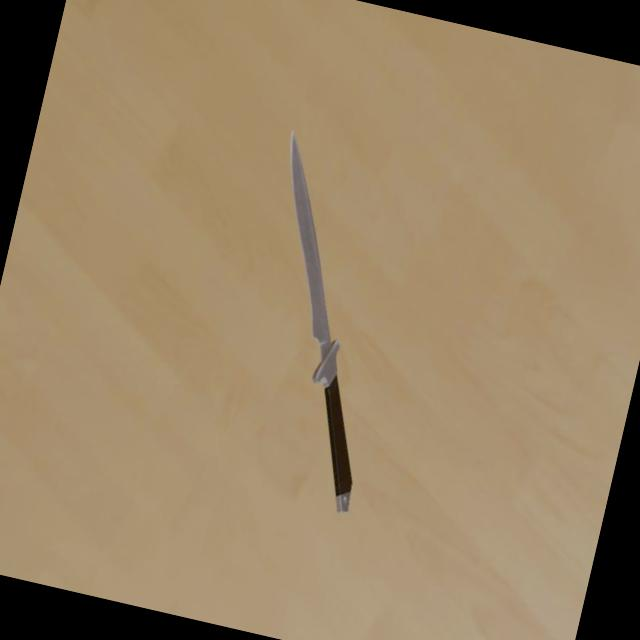knife: (298, 372, 377, 514)
